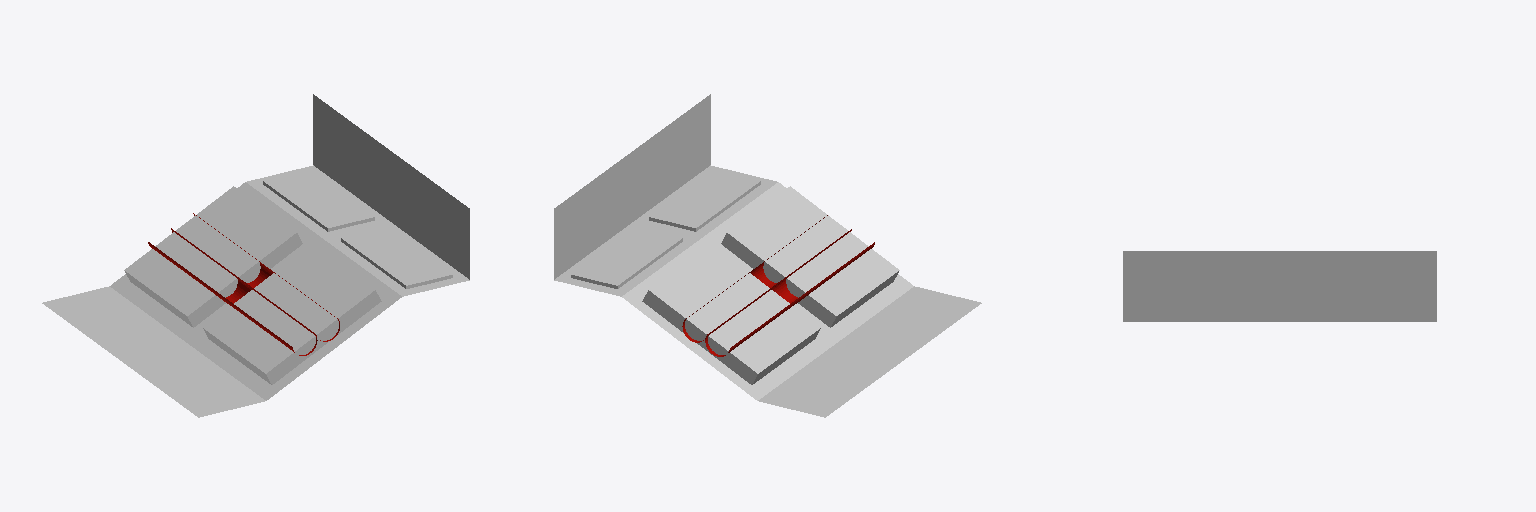
The model's file is ceilingpiece.obj.
3 renders of one model, left to right at view 1: azimuth 30°, elevation 25°; view 2: azimuth 150°, elevation 25°; view 3: azimuth 270°, elevation 25°, orthographic.
Visible parts, largest first — view 1: ceilingpiece; view 2: ceilingpiece; view 3: ceilingpiece.
Boxes of the visible parts, x1=… form: ceilingpiece: x1=42, y1=94, x2=469, y2=417; ceilingpiece: x1=554, y1=94, x2=981, y2=417; ceilingpiece: x1=1123, y1=251, x2=1436, y2=321.
Size of the model in its own units: 4 by 2 by 4.